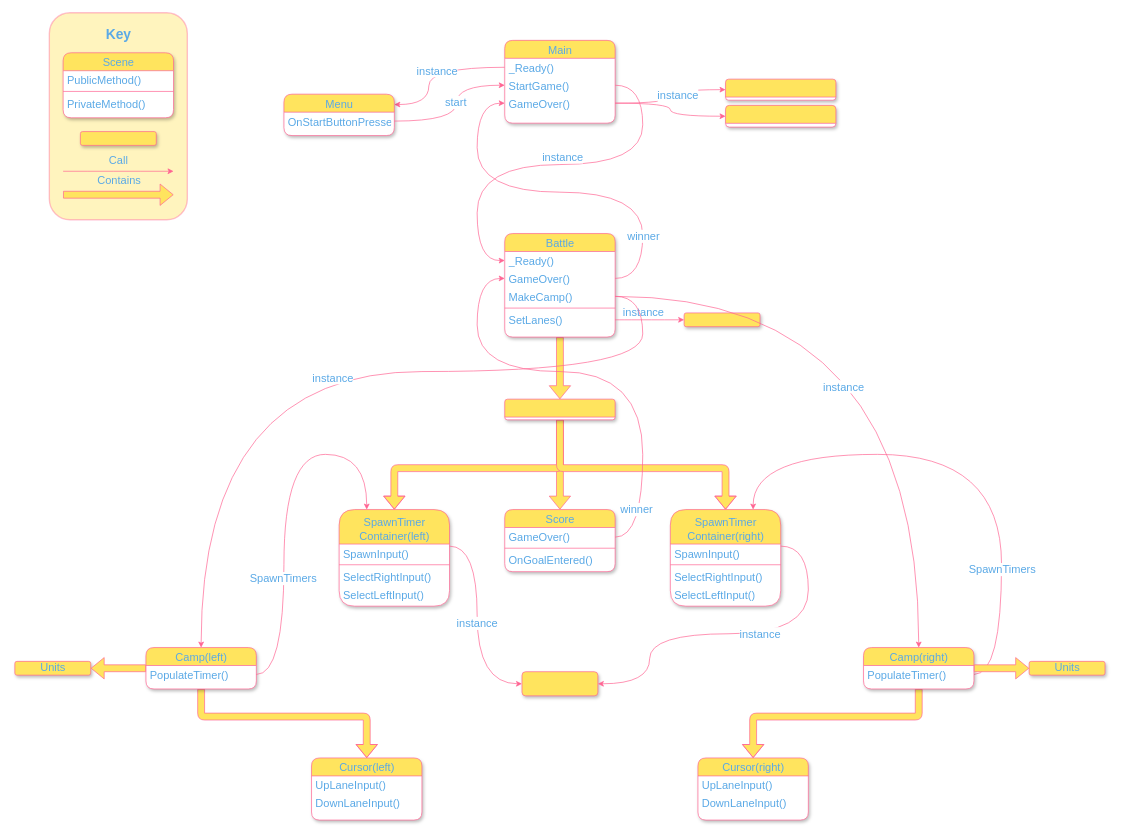
Image size: 1121x837. Some labels were removed from this diagram. The shapes that lost their labels are listed below. From the top down, each one's centre as x and y in pixels, then its label:
At (781,90): "Victory".
At (781,117): "Defeat".
At (118,139): "Data".
At (722,320): "Lanes".
At (560,410): "UI".
At (560,684): "Spawned Units".
